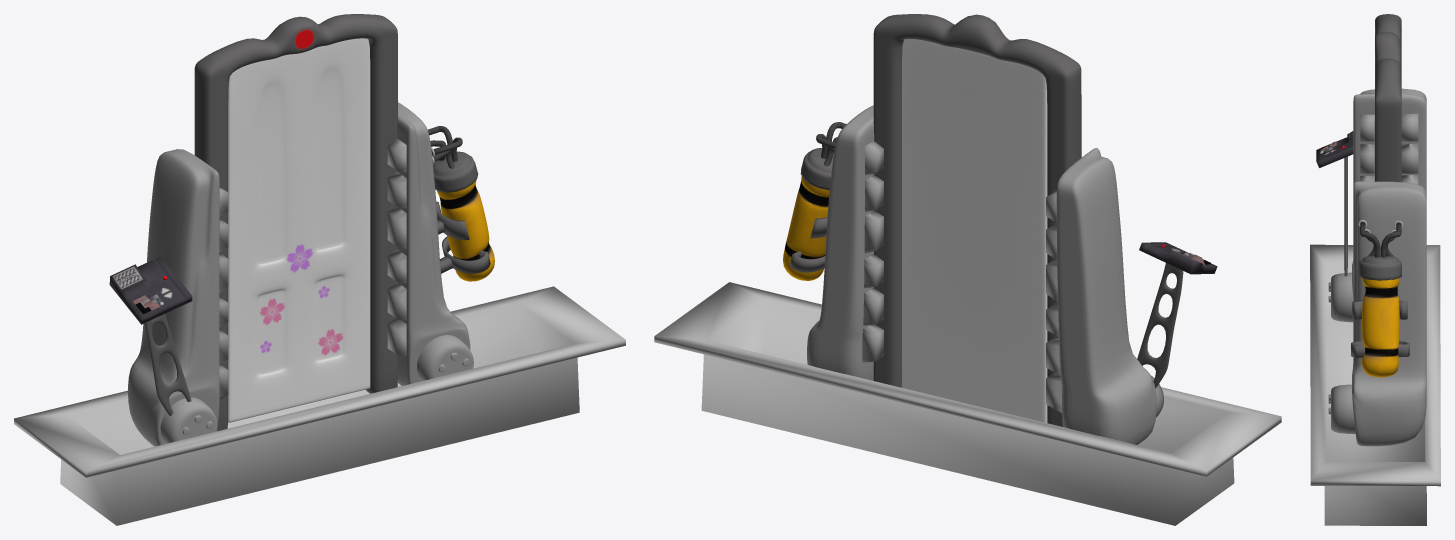
The model's file is puerta.obj.
3 views of the same model, side by side, from view 1: azimuth 30°, elevation 25°; view 2: azimuth 150°, elevation 25°; view 3: azimuth 270°, elevation 25° (orthographic). The views are drawn at different scales.
Visible parts, largest first — view 1: tubo_risas; view 2: tubo_risas; view 3: tubo_risas.
Part boxes in pixels (x1,y1,x2,y2): tubo_risas: [14, 14, 625, 525]; tubo_risas: [654, 14, 1281, 525]; tubo_risas: [1310, 14, 1440, 525].
Bounding box in the file's own units: 123 × 93.24 × 28.84.
